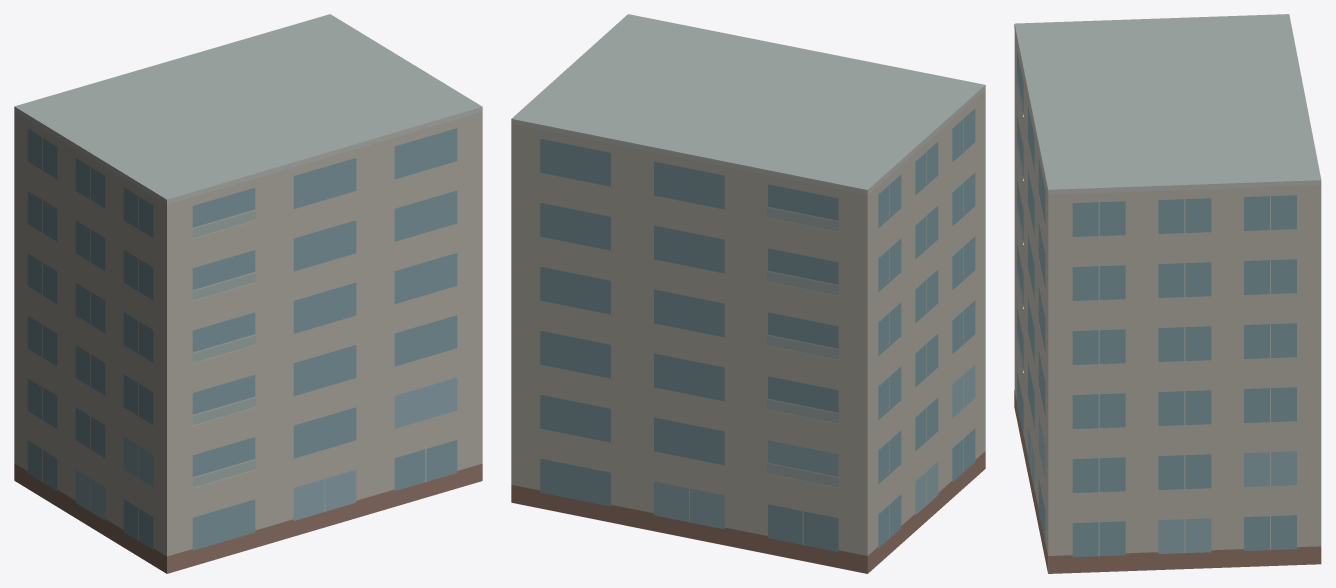
Rendered from survey-upis-32915901.glb.
3 views of the same model, side by side, from view 1: azimuth 30°, elevation 25°; view 2: azimuth 150°, elevation 25°; view 3: azimuth 270°, elevation 25° (orthographic). The views are drawn at different scales.
Parts seen in each view (by area): view 1: survey-upis-32915901.tmp; view 2: survey-upis-32915901.tmp; view 3: survey-upis-32915901.tmp.
Boxes of the visible parts, bbox=[...] form: survey-upis-32915901.tmp: bbox=[14, 14, 482, 573]; survey-upis-32915901.tmp: bbox=[511, 14, 985, 573]; survey-upis-32915901.tmp: bbox=[1014, 14, 1321, 573].
Size of the model in its own units: 17.98 by 18.3 by 13.26.
